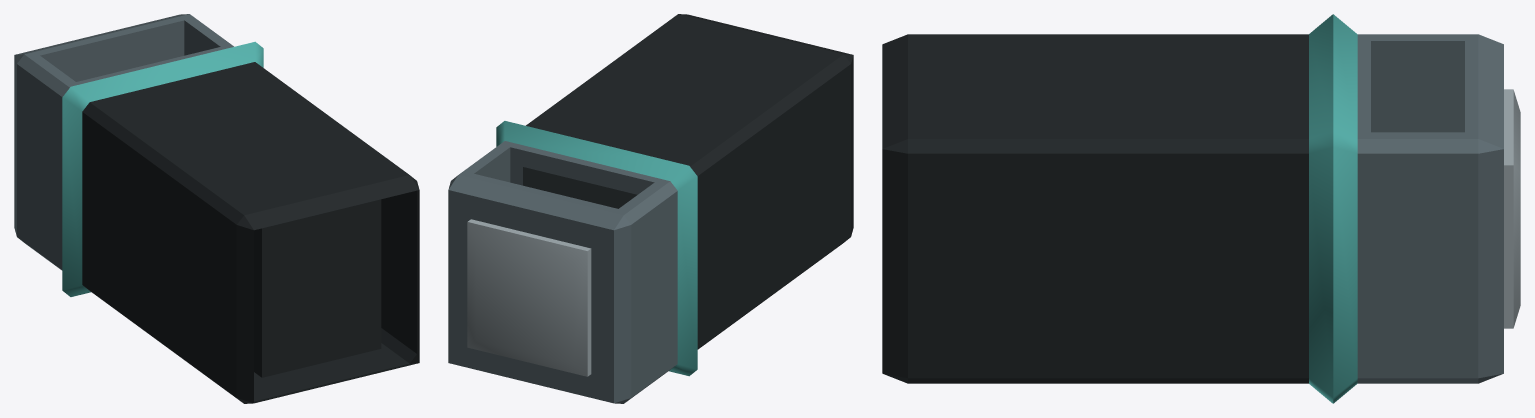
File: Bin 01.FBX
The picture shows the model from 3 angles, left to right: view 1: azimuth 30°, elevation 25°; view 2: azimuth 150°, elevation 25°; view 3: azimuth 270°, elevation 25°; orthographic projection. The views are drawn at different scales.
Parts seen in each view (by area): view 1: Bin 01; view 2: Bin 01; view 3: Bin 01.
Boxes of the visible parts, <box> form: Bin 01: <box>14,14,419,403</box>; Bin 01: <box>448,14,853,403</box>; Bin 01: <box>882,14,1520,403</box>.
Size of the model in its own units: 45.32 by 45.32 by 95.98.
Materials: 1 (1 with a texture image).
